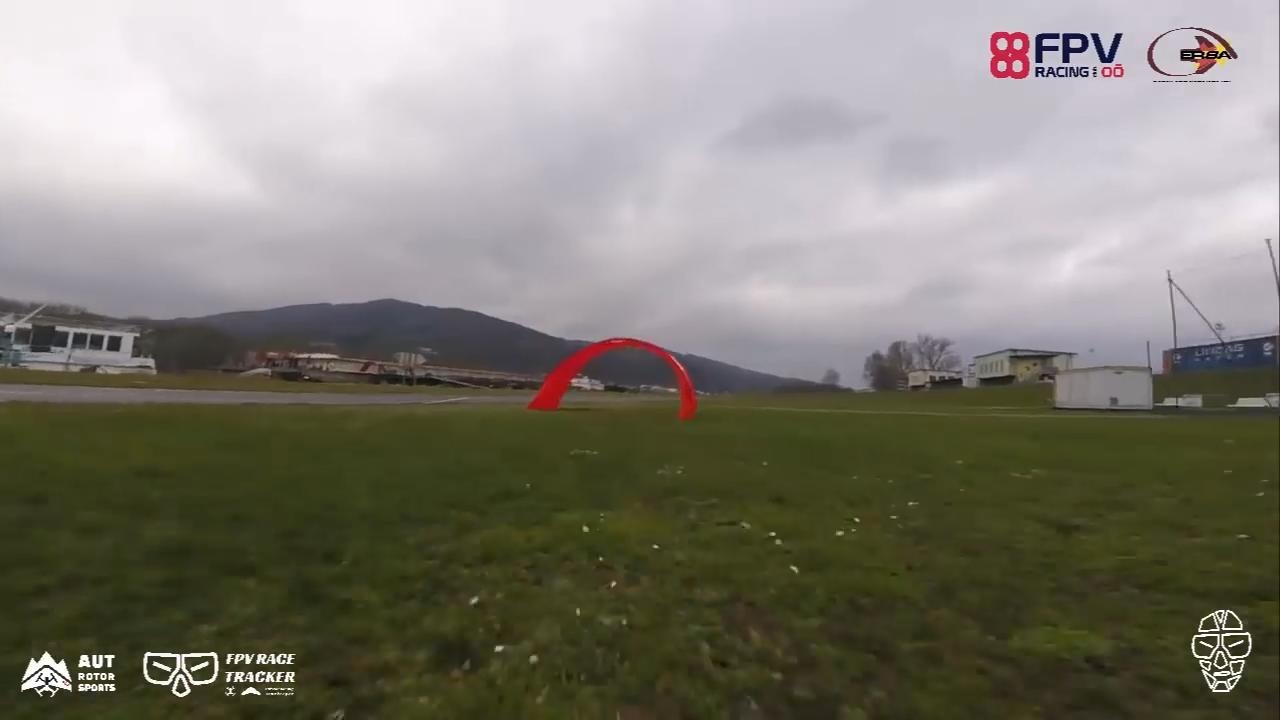gate: (526, 333, 700, 423)
